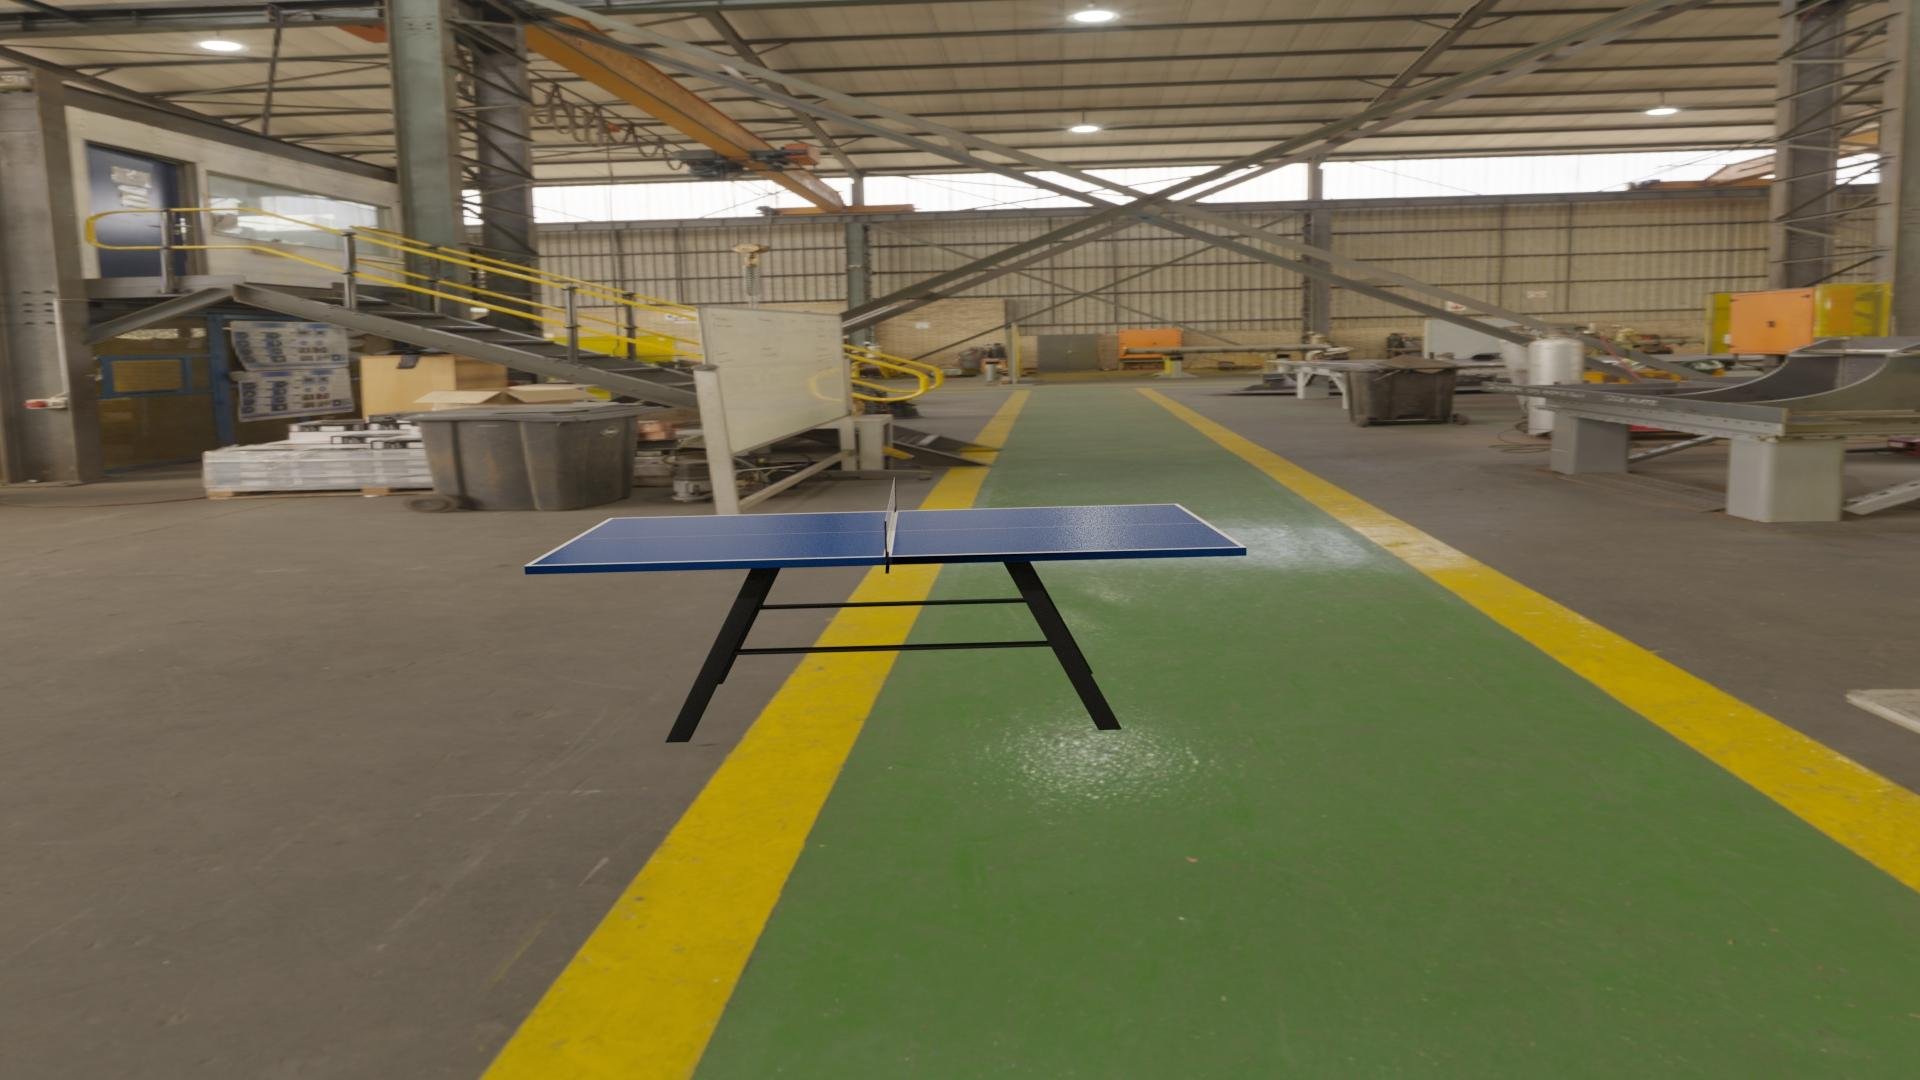table: (530, 504, 1241, 566)
